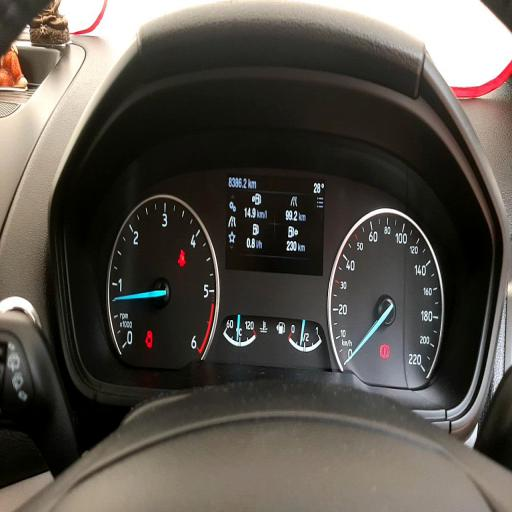belt: (178, 248, 186, 267)
brake_system_fault: (379, 342, 390, 360)
tachometer: (107, 194, 220, 367)
